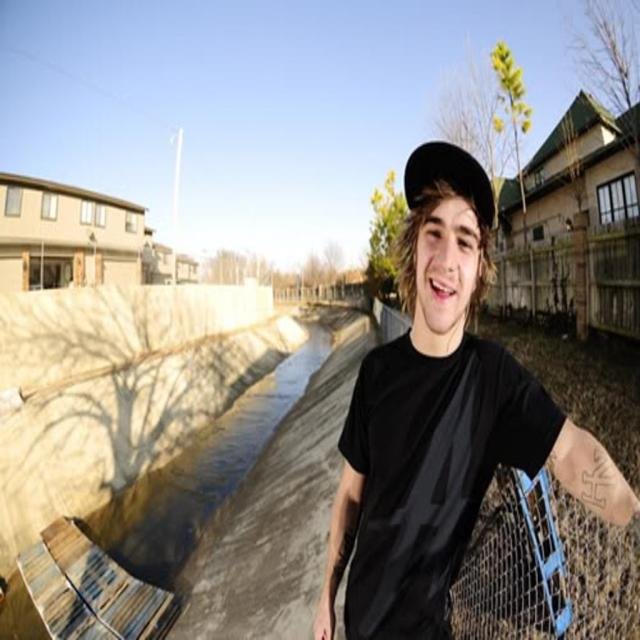Face: (414, 199, 486, 331)
